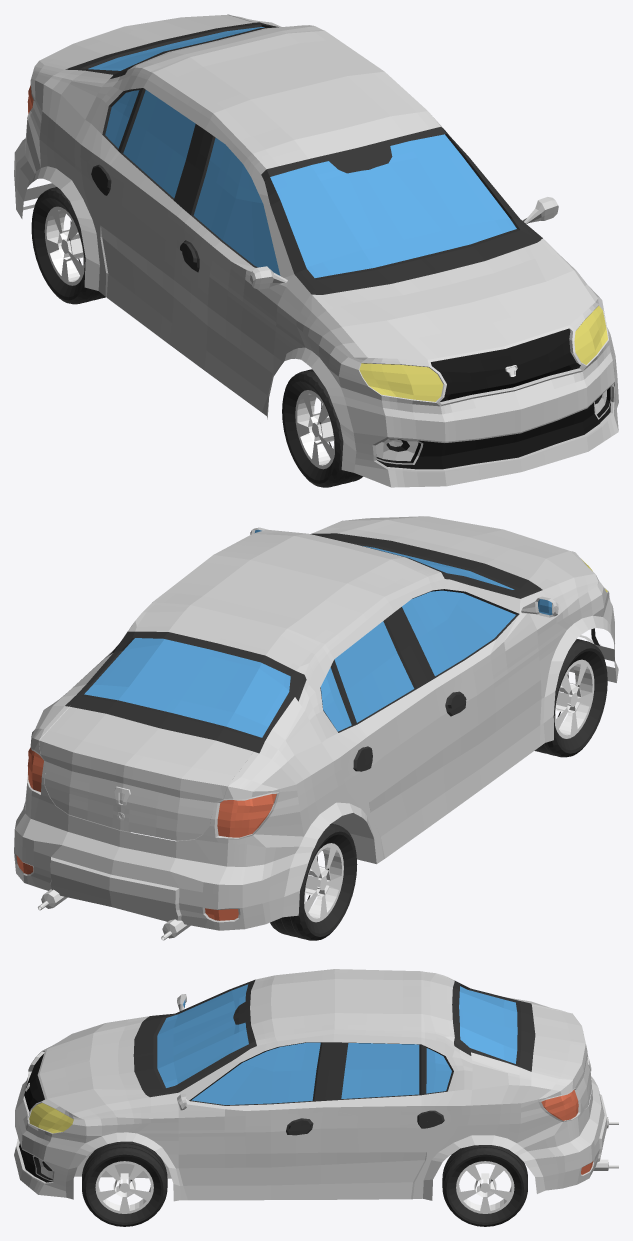
The model's file is Logan2_2017.glb.
3 views of the same model, one above another, from view 1: azimuth 30°, elevation 25°; view 2: azimuth 150°, elevation 25°; view 3: azimuth 270°, elevation 25° (orthographic). The views are drawn at different scales.
Parts seen in each view (by area): view 1: Body, Front Right Wheel, Rear Right Wheel; view 2: Body, Rear Right Wheel, Front Right Wheel, Exhaust; view 3: Body, Front Left Wheel, Rear Left Wheel.
Boxes of the visible parts, x1=… form: Body: x1=14, y1=14, x2=618, y2=487; Front Right Wheel: x1=282, y1=369, x2=363, y2=487; Rear Right Wheel: x1=31, y1=187, x2=105, y2=304; Body: x1=14, y1=516, x2=618, y2=930; Rear Right Wheel: x1=270, y1=823, x2=357, y2=940; Front Right Wheel: x1=534, y1=639, x2=607, y2=757; Exhaust: x1=38, y1=889, x2=190, y2=940; Body: x1=14, y1=969, x2=607, y2=1201; Front Left Wheel: x1=82, y1=1141, x2=167, y2=1226; Rear Left Wheel: x1=442, y1=1145, x2=527, y2=1226.
Bounding box in the file's own units: 2.53 × 2.03 × 6.01.
